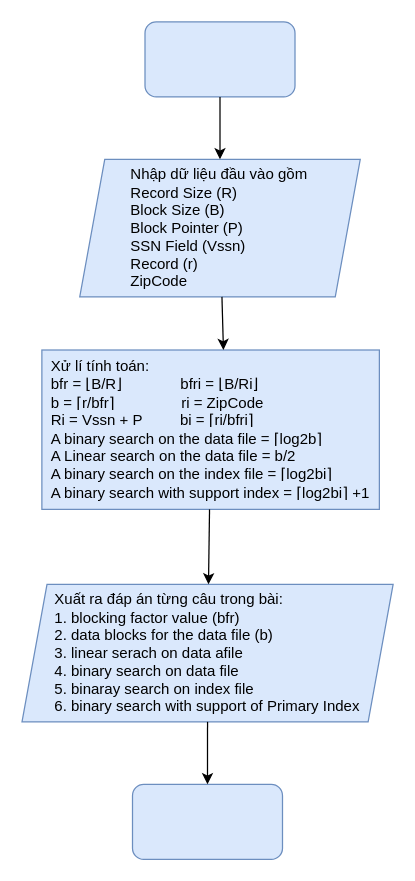
The diagram is 415 pixels wide and 881 high, and some of its shapes have lost their labels. The centre of each missing label's shape, as x and y in pixels:
Bắt đầu: (219,59)
Kết thúc: (206,821)
